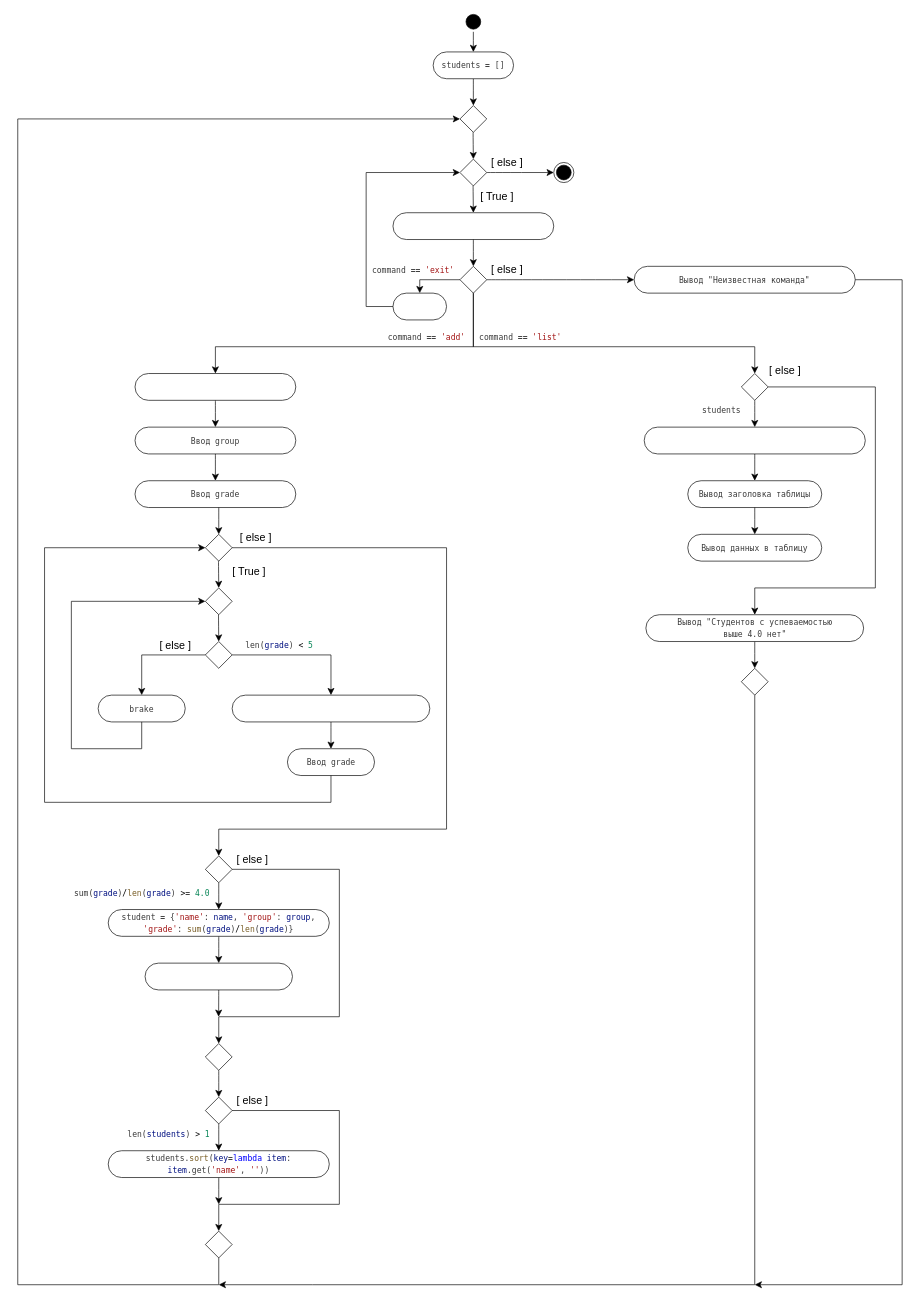
The diagram is 921 pixels wide and 1303 high, and some of its shapes have lost their labels. Each missing label, with the centre of its shape:
break: point (419, 306)
students.append(student): point (218, 976)
Ввод command: point (473, 226)
Ввод name: point (215, 386)
Вывод "Введное количество оценок меньше 5, введите оценки еще раз:": point (330, 708)
Вывод "Список студентов с успеваемостью больше 4.0 ": point (754, 440)
